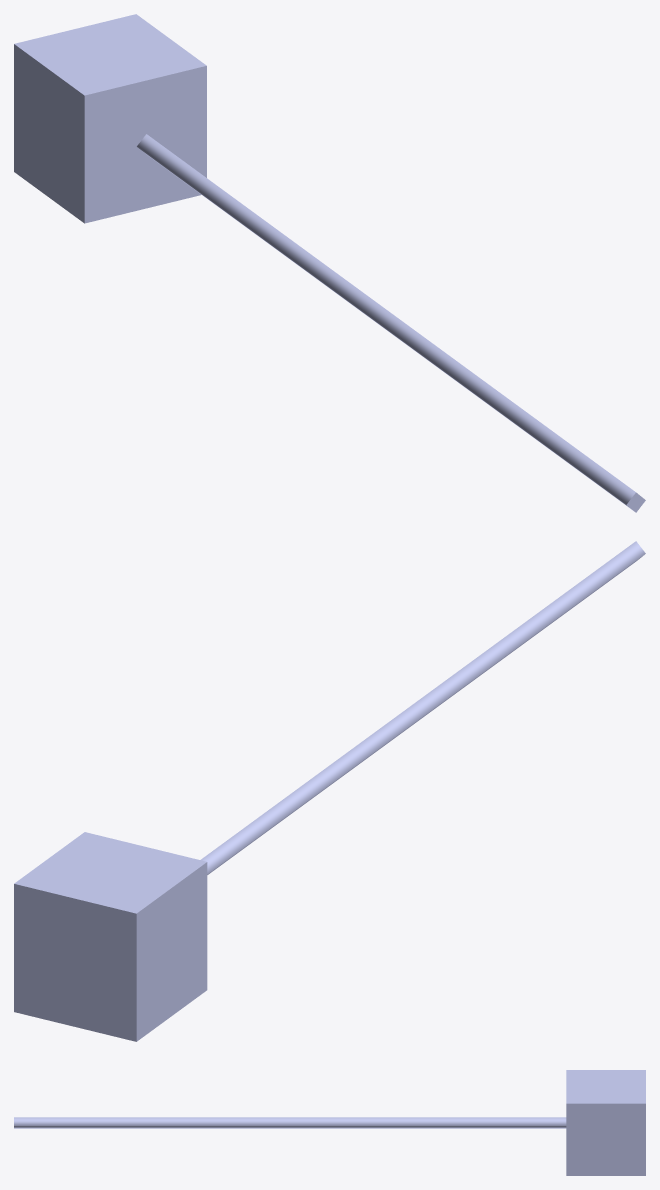
Rendered from scale_arrow_z.FBX.
3 views of the same model, one above another, from view 1: azimuth 30°, elevation 25°; view 2: azimuth 150°, elevation 25°; view 3: azimuth 270°, elevation 25° (orthographic). The views are drawn at different scales.
Visible parts, largest first — view 1: pasted__Cylinder002; view 2: pasted__Cylinder002; view 3: pasted__Cylinder002.
Part boxes in pixels (<box>): pasted__Cylinder002: <box>14,14,645,512</box>; pasted__Cylinder002: <box>14,541,645,1041</box>; pasted__Cylinder002: <box>14,1070,645,1175</box>.
Size of the model in its own units: 0.0952 by 0.0952 by 0.7551.
